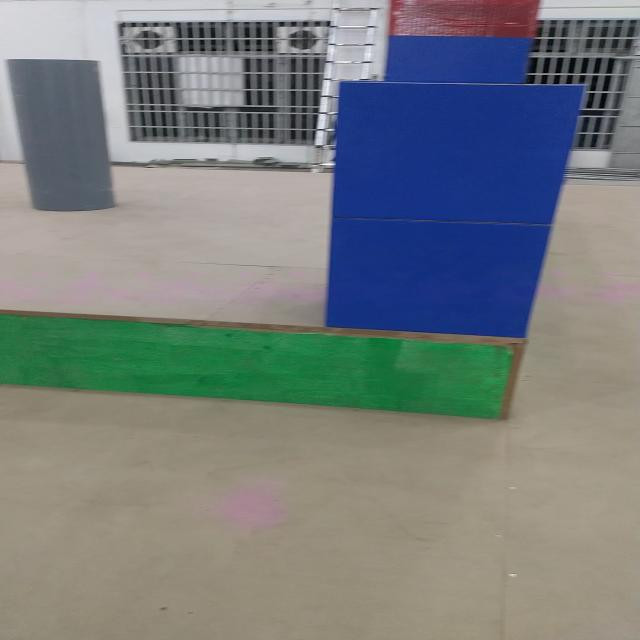earth_block: (333, 81, 589, 223), (325, 220, 558, 336)
sky_block: (383, 0, 544, 83)
